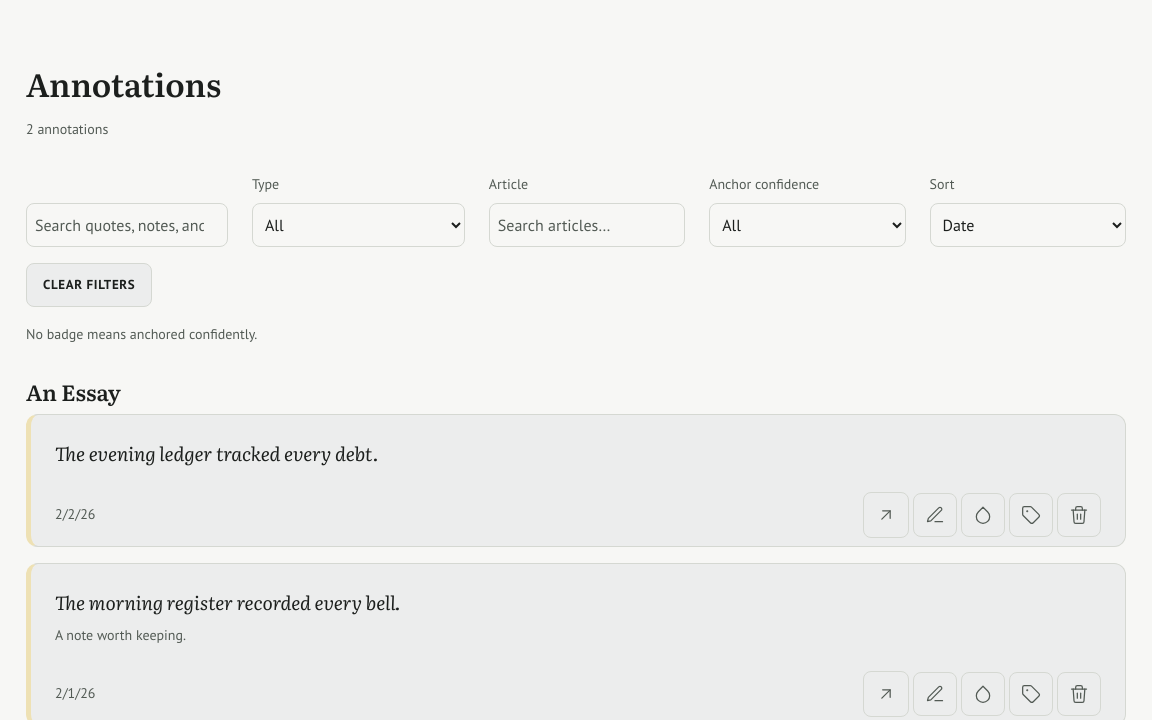
it: ReviewView removal routing (issue #174 — proportional delete) › a NONEMPTY note opens the confirm dialog — the write waits; Keep cancels cleanly
The image size is (1152, 720).
Click the button named "Remove highlight: The morning register recorded every bell." at (1079, 694), box x1=1057 y1=672 x2=1101 y2=716
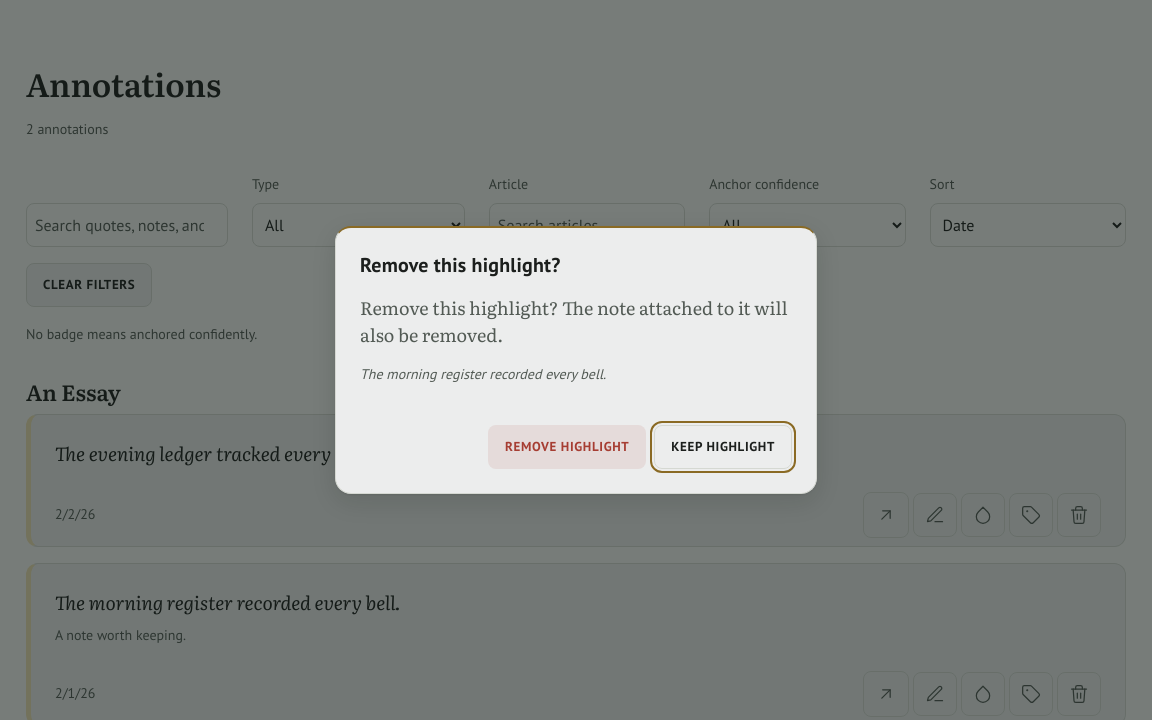
Check: the dialog is shown, box x1=335 y1=226 x2=817 y2=494
Check: the text "The note attached to it will also be removed." is shown, box x1=360 y1=294 x2=788 y2=348
// Keep highlight (the initial-focus default) — nothing deleted, row kept.
Click the button "Keep highlight" at (723, 447), box x1=654 y1=425 x2=792 y2=469
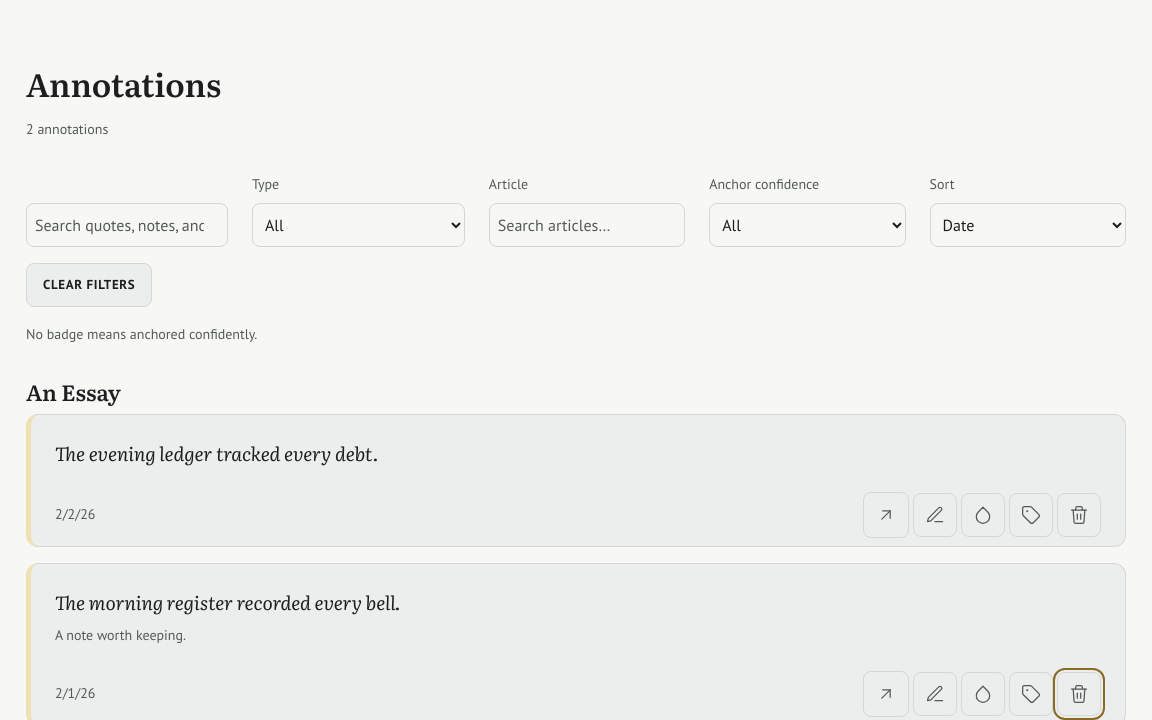
Check: the dialog is gone
